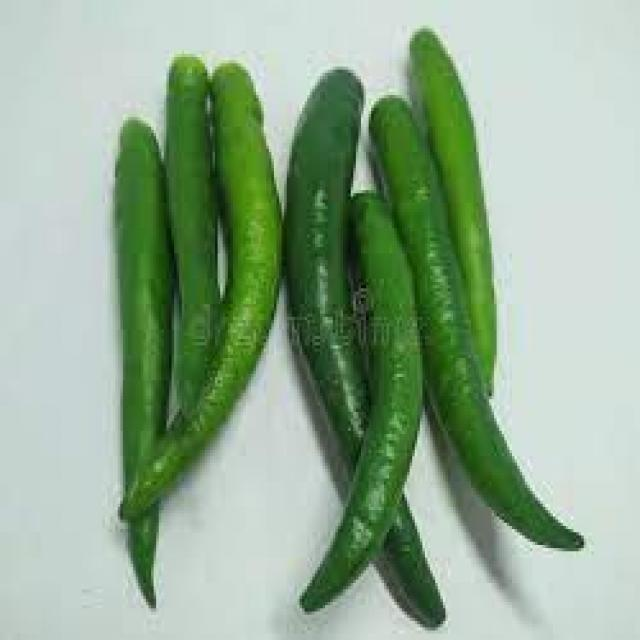green chilli: (371, 101, 584, 550), (120, 63, 284, 521), (302, 193, 425, 611), (287, 70, 371, 470), (412, 29, 499, 394), (115, 120, 172, 490), (166, 57, 220, 417), (379, 504, 448, 630)
